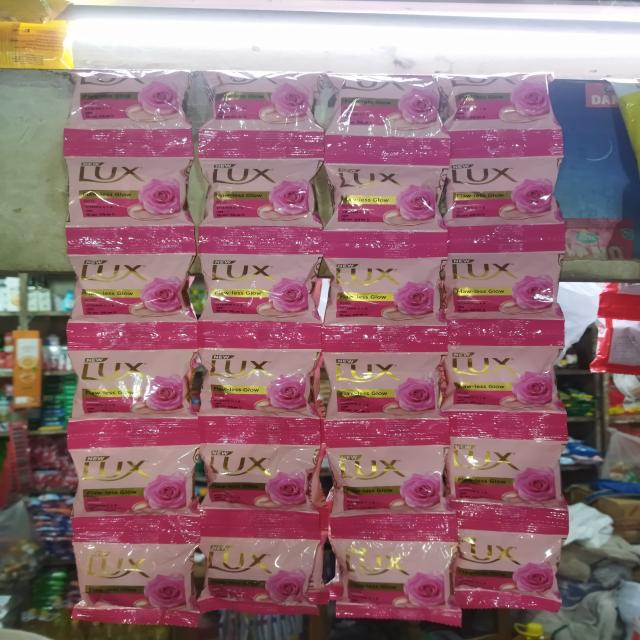ubl: (193, 508, 328, 619), (68, 526, 204, 625), (62, 66, 206, 152), (450, 520, 568, 617), (320, 70, 440, 164), (66, 151, 191, 240), (327, 530, 453, 618), (196, 69, 327, 152), (442, 70, 564, 157), (66, 442, 208, 516), (62, 153, 205, 225), (64, 344, 202, 418), (445, 434, 572, 511), (193, 157, 333, 226), (442, 155, 566, 230), (191, 346, 327, 414), (195, 442, 327, 512), (324, 161, 446, 233), (322, 442, 445, 512), (442, 344, 571, 408), (191, 254, 331, 312), (318, 352, 439, 416), (63, 252, 205, 306), (440, 252, 565, 307), (328, 256, 446, 314)
